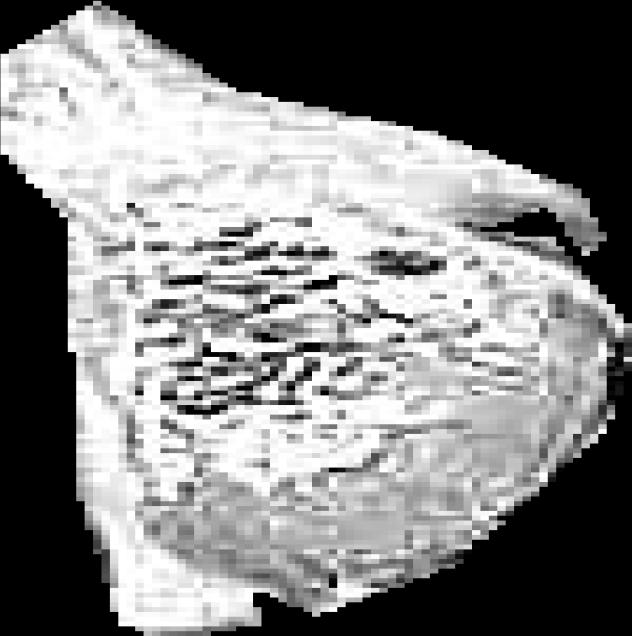tumor_moderate_chance: (0, 1, 632, 636)
